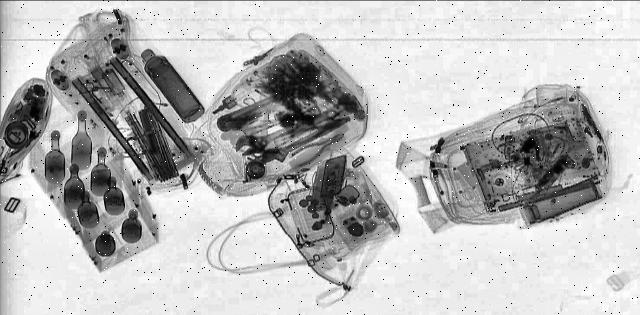Pliers: (277, 130, 351, 166)
Wrench: (220, 102, 352, 158), (247, 111, 361, 166)
